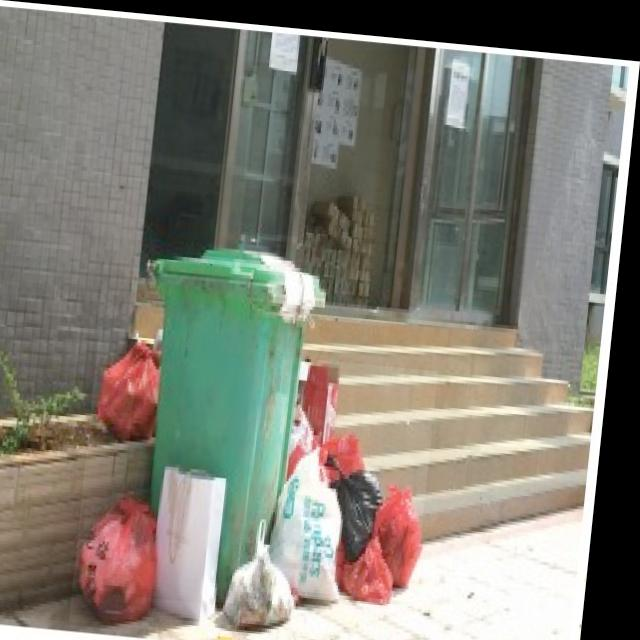garbage: (82, 336, 446, 640)
garbage_bin: (126, 235, 333, 605)
